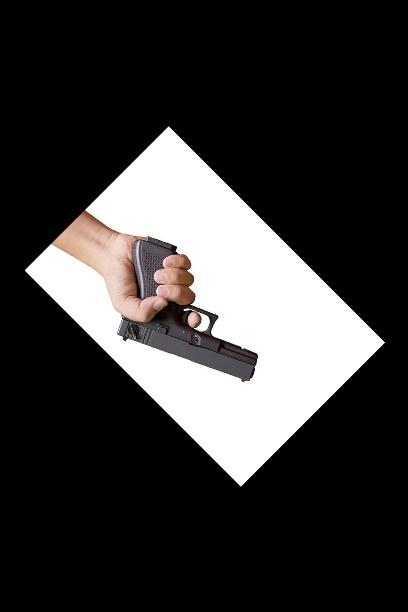weapon: (115, 232, 261, 385)
